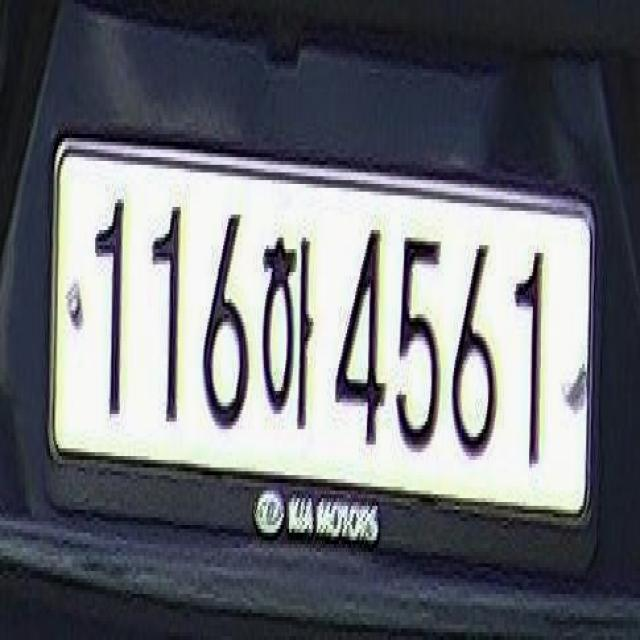illegal_plate: (36, 129, 605, 580)
